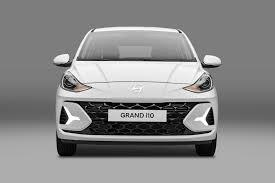hyundai: (126, 79, 143, 95)
